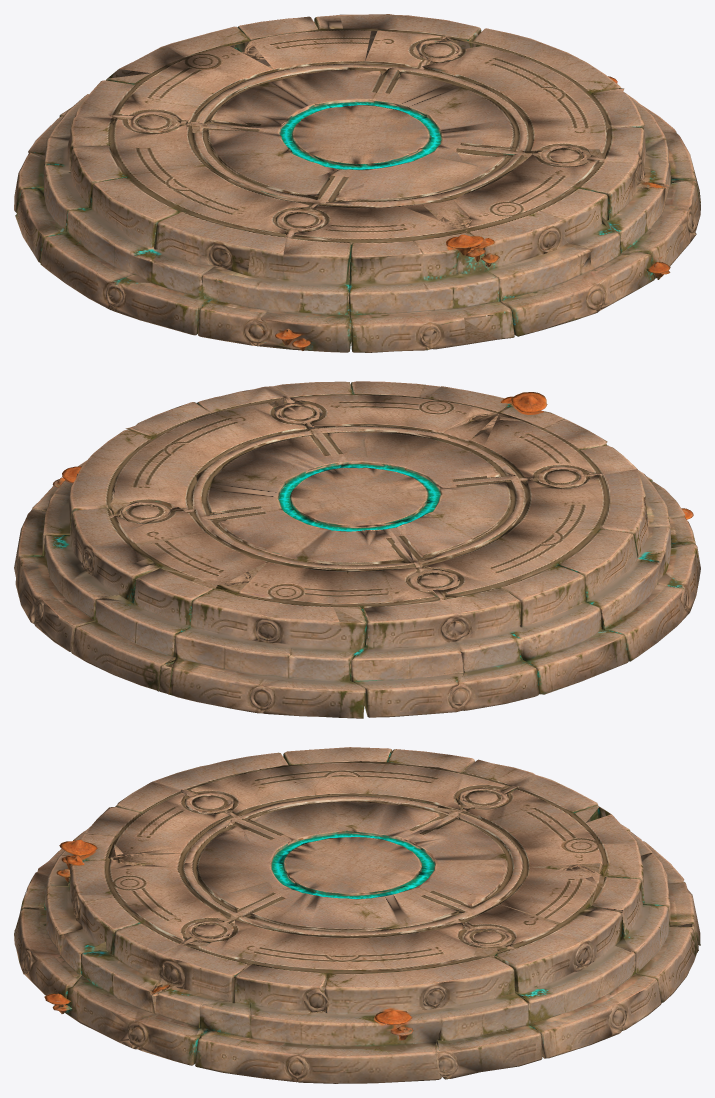
File: citadel_dais.glb
3 renders of one model, top to bottom at view 1: azimuth 30°, elevation 25°; view 2: azimuth 150°, elevation 25°; view 3: azimuth 270°, elevation 25°, orthographic.
Bounding box in the file's own units: 0.9492 × 0.1279 × 0.9541.
Materials: 1 (1 with a texture image).
